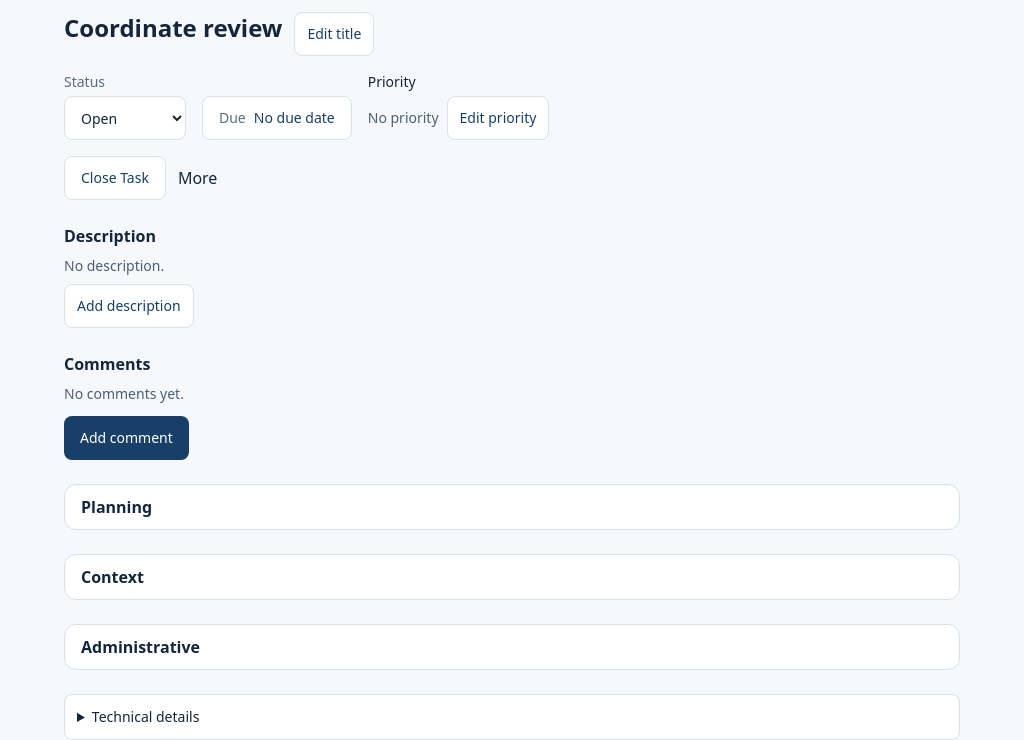
TaskDetailView authoritative draft / conflict › does not fetch commitment choices or Context labels until Context is opened
The width and height of the screenshot is (1024, 740).
Click the heading "Context".
click(112, 577)  # box [81,566,144,588]
(page scrolled)
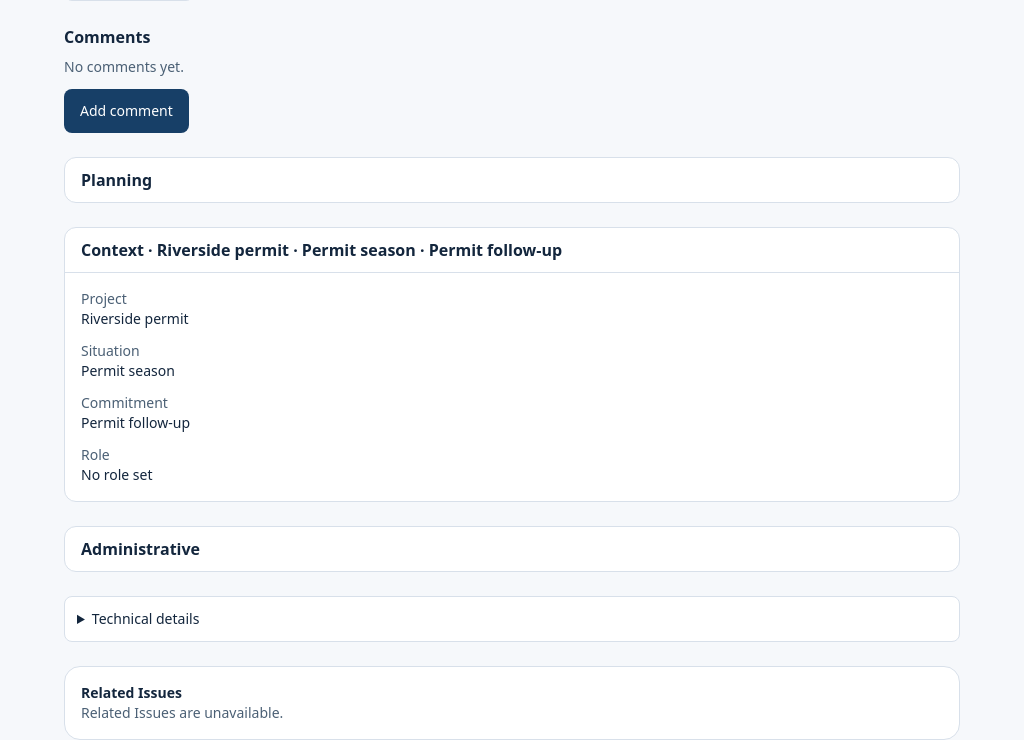
Expected: the text "Riverside permit" is shown, [81,309,189,328]
Expected: the text "Permit season" is shown, [81,361,175,380]
Expected: the text "Permit follow-up" is shown, [81,413,190,432]
